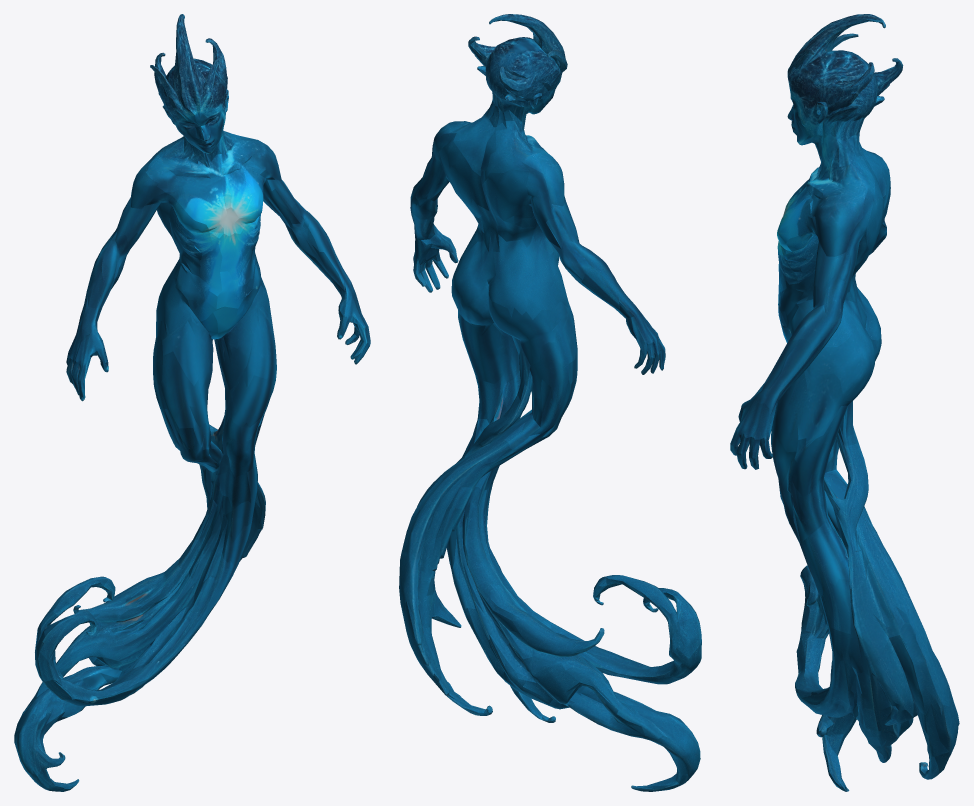
The model's file is m_spirit.glb.
3 views of the same model, side by side, from view 1: azimuth 30°, elevation 25°; view 2: azimuth 150°, elevation 25°; view 3: azimuth 270°, elevation 25° (orthographic). The views are drawn at different scales.
Bounding box in the file's own units: 0.8462 × 1.9 × 0.4682.
Materials: 1 (1 with a texture image).
